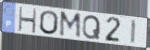2: (105, 16, 122, 43)
H: (18, 6, 38, 35)
I: (129, 18, 137, 46)
M: (58, 10, 82, 40)
O: (39, 10, 59, 36)
Q: (81, 14, 102, 40)
